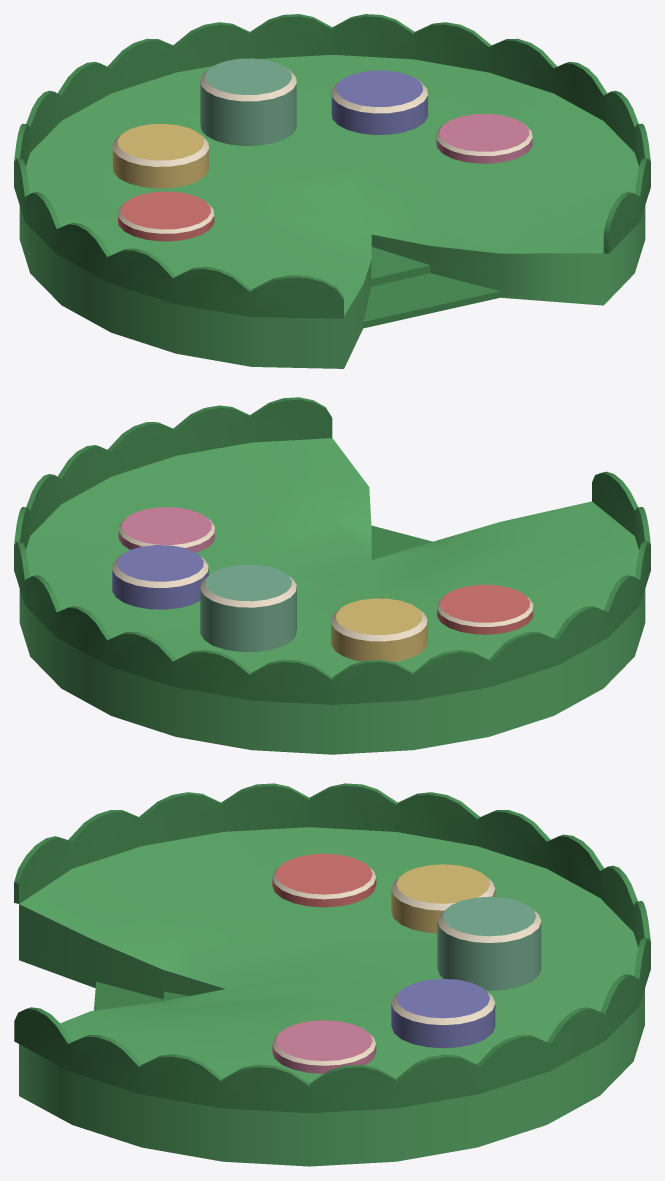
File: BIG LILYPAD STAGE.fbx
The picture shows the model from 3 angles, top to bottom: view 1: azimuth 30°, elevation 25°; view 2: azimuth 150°, elevation 25°; view 3: azimuth 270°, elevation 25°; orthographic projection. The views are drawn at different scales.
Visible parts, largest first — view 1: pDisc2; view 2: pDisc2; view 3: pDisc2.
Part boxes in pixels (x1,y1,x2,y2): pDisc2: [14, 14, 650, 368]; pDisc2: [14, 397, 650, 754]; pDisc2: [14, 783, 650, 1166].
Bounding box in the file's own units: 3.3 × 0.5788 × 3.08.
